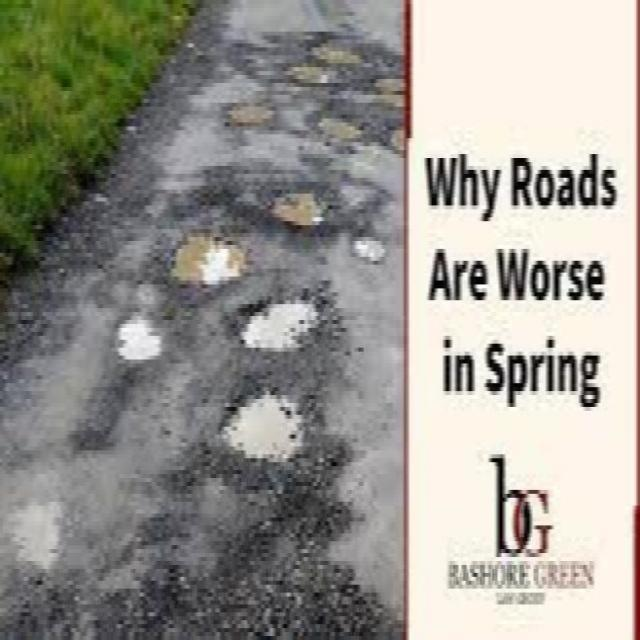Pothole: (204, 379, 324, 464), (226, 298, 335, 353), (162, 232, 259, 290), (262, 177, 340, 237), (278, 28, 367, 76), (368, 63, 408, 155), (113, 300, 159, 366), (304, 113, 364, 158), (217, 92, 280, 132), (351, 226, 395, 269)
